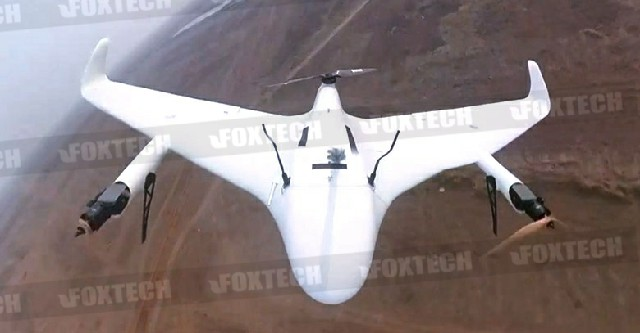maybay_khongnguoilai: (70, 37, 552, 290)
